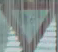Give way: (6, 4, 57, 50)
